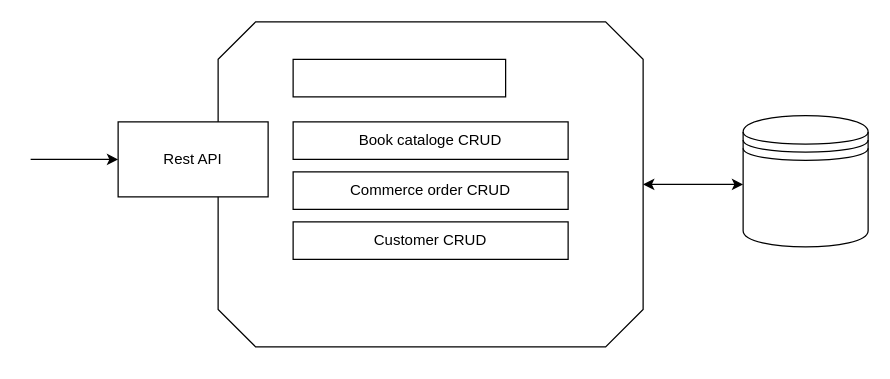
The diagram is 890 pixels wide and 379 high, and some of its shapes have lost their labels. Each missing label, with the centre of its shape:
Authorization: the point at 399,77
postgres: the point at 805,180
